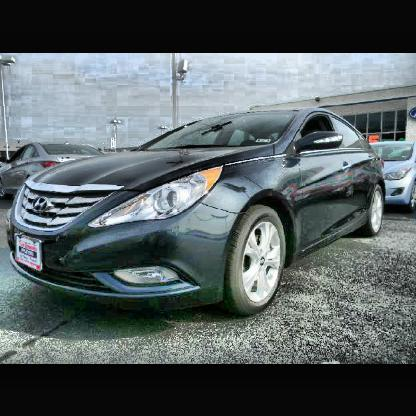Hyundai Sonata Sedan 2012: (7, 111, 389, 320)
